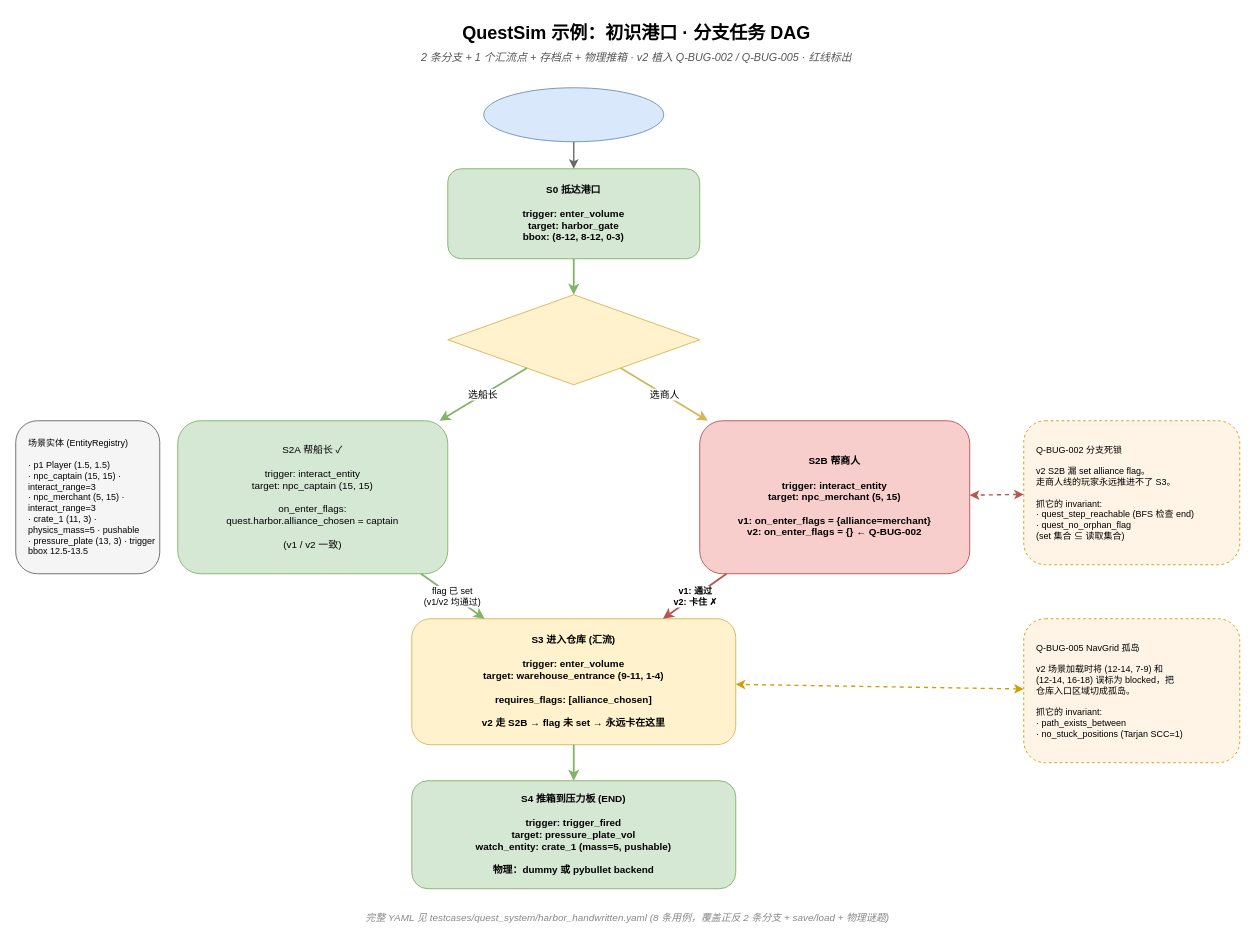
Image size: 1256x943. Some labels were removed from this diagram. The box of each missing label's shape, as (x1, y1, x2, y2) in pixels:
Player Spawn (1.5, 1.5, 0): (483, 87, 664, 142)
S1 选择阵营 (分支点) next_steps: [S2A, S2B]: (447, 294, 700, 385)
